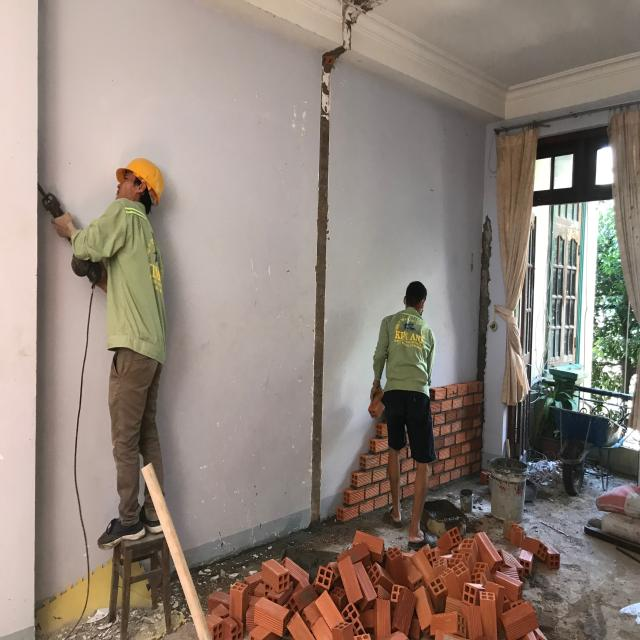boots: (96, 504, 148, 554), (138, 493, 168, 542)
hardhat: (113, 158, 165, 208)
no_boots: (408, 525, 440, 558), (386, 501, 404, 528)
no_gloves: (52, 209, 78, 245), (370, 379, 385, 404)
no_hardhat: (401, 280, 428, 316)
person: (40, 155, 174, 555), (369, 279, 438, 554)
vest: (66, 197, 171, 371), (373, 313, 436, 397)
